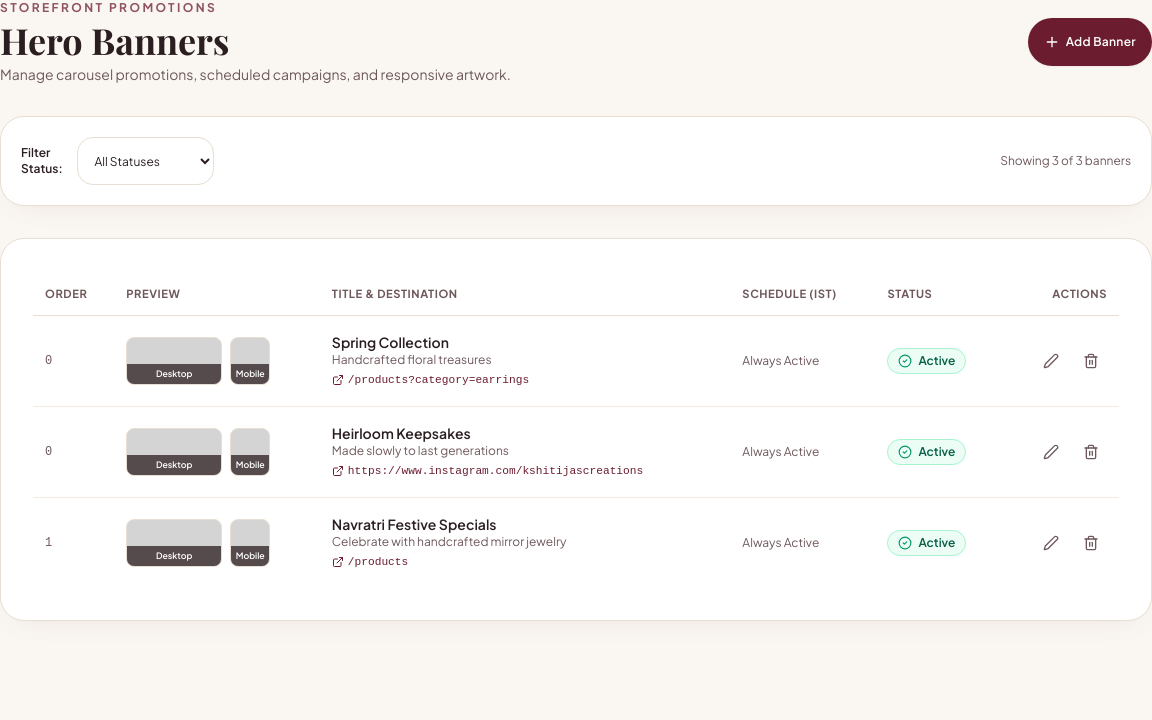
Scenario: AdminBannersPage › deletes banner with confirmation modal
The width and height of the screenshot is (1152, 720).
Expected: the text "Spring Collection" is shown, x1=332 y1=333 x2=449 y2=351
Click the button named "Delete Spring Collection": click(1091, 361) x1=1075 y1=345 x2=1107 y2=377
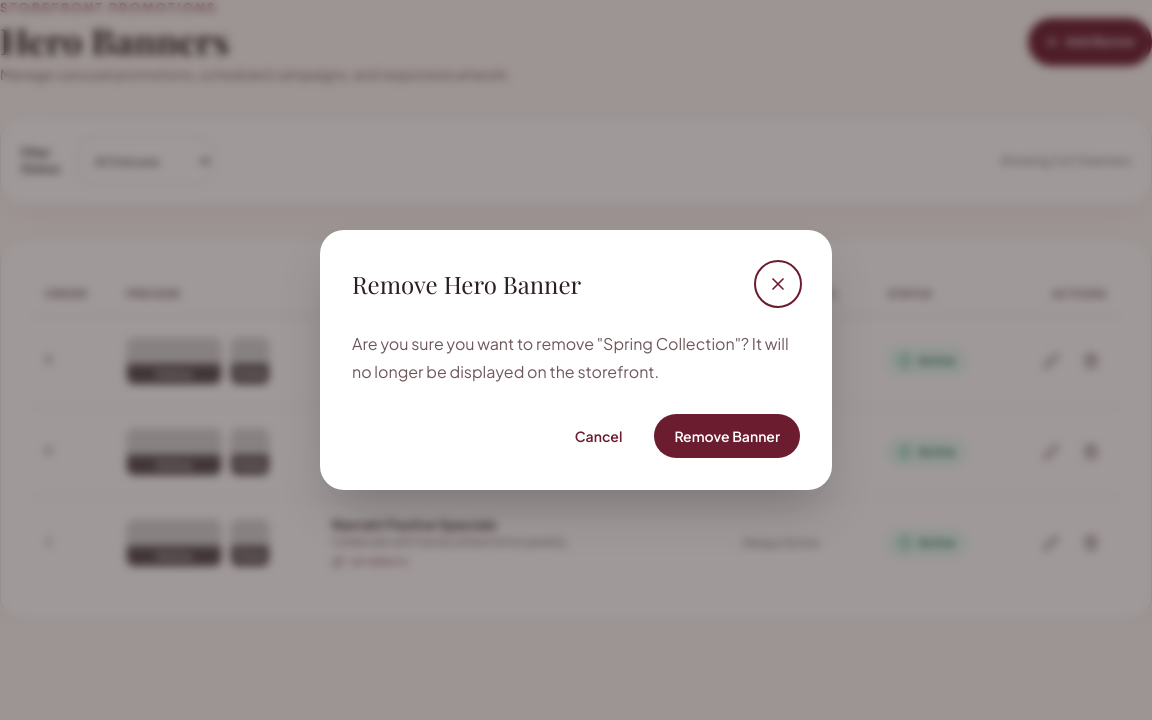
Expected: the heading "Remove Hero Banner" is shown, x1=352 y1=268 x2=581 y2=300
Click the button "Remove Banner": click(727, 436) x1=654 y1=414 x2=800 y2=458
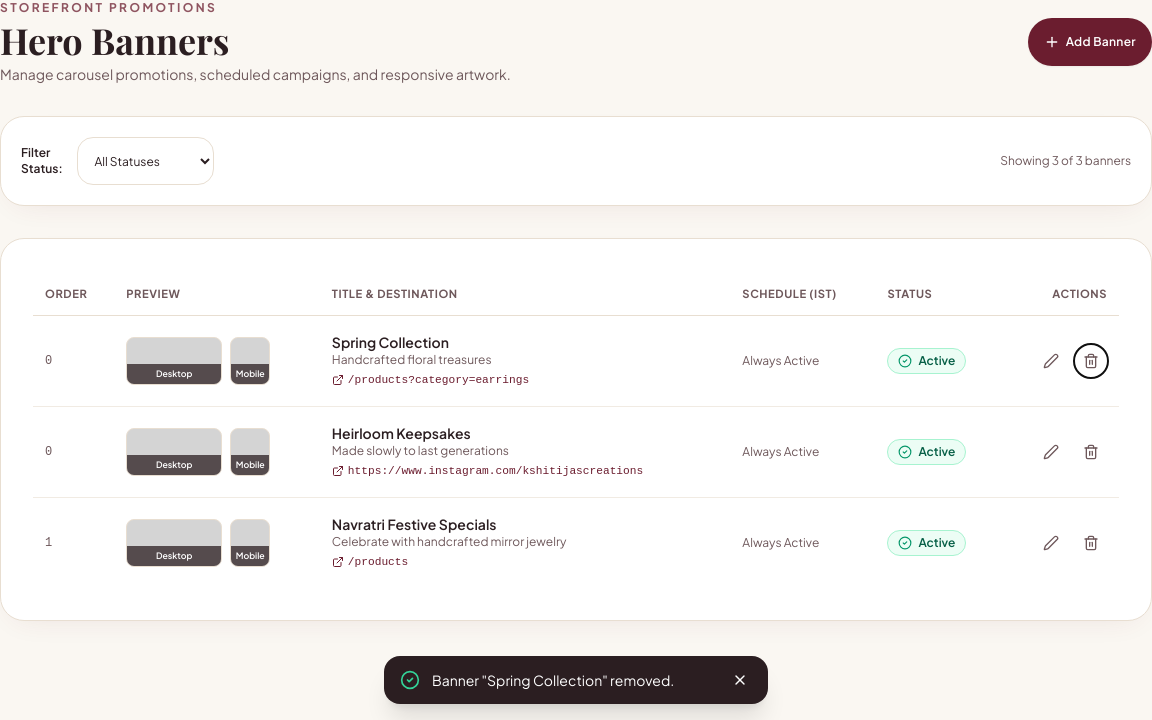
Expected: the text "Banner \"Spring Collection\" removed." is shown, x1=432 y1=670 x2=716 y2=690
